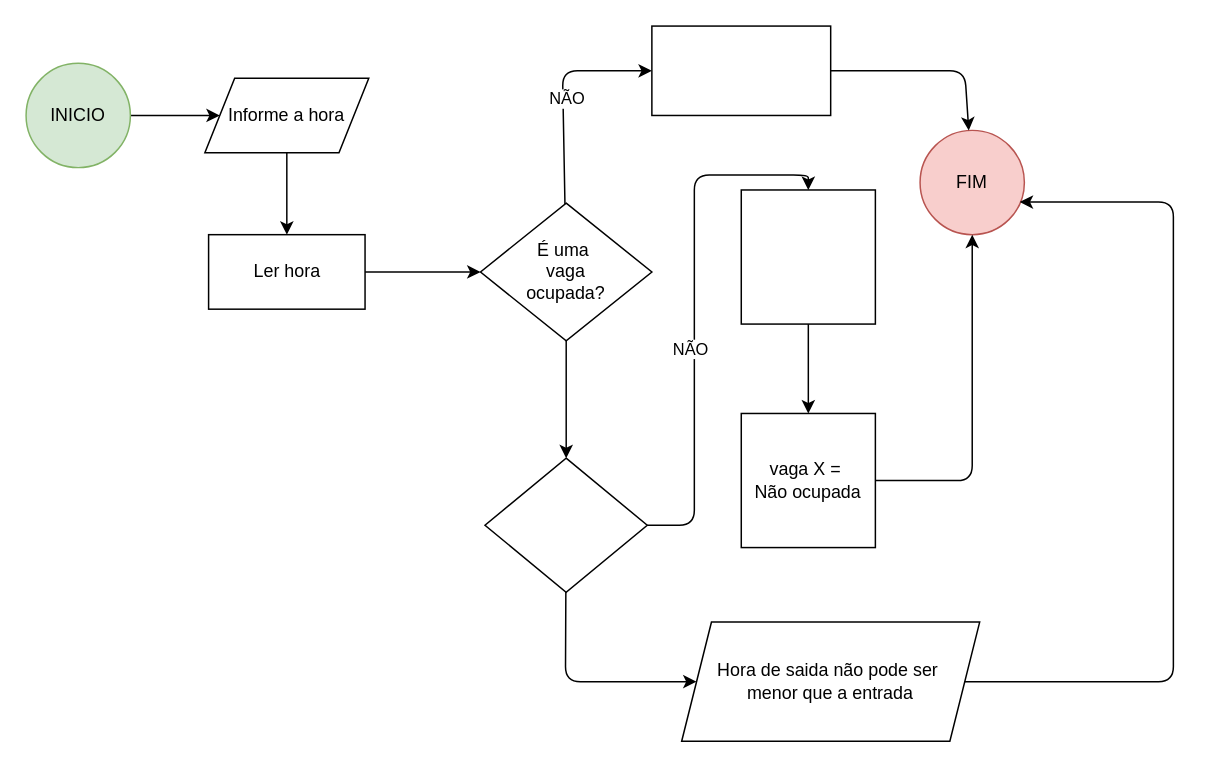
Some shapes in this 1211 by 767 pixel diagram are drawn without their labels. Each missing label, with the centre of its shape:
Hora < v aga[x]: pixel 565 524
Intervalo = vaga - hora: pixel 807 256
vaga X = hora: pixel 740 70
